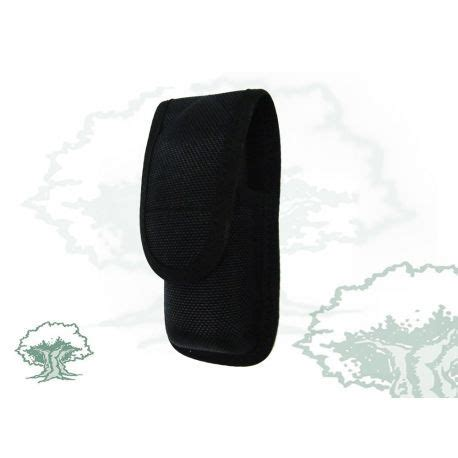nylon: (139, 88, 282, 367)
